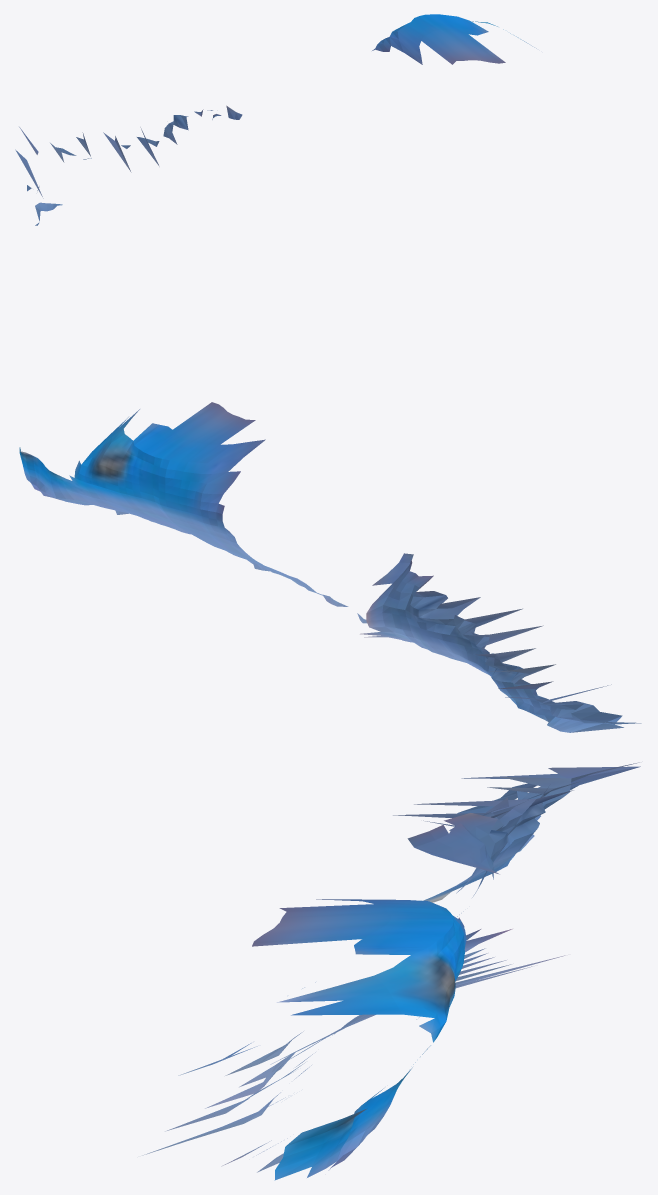
Rendered from observed-surface.glb.
3 renders of one model, top to bottom at view 1: azimuth 30°, elevation 25°; view 2: azimuth 150°, elevation 25°; view 3: azimuth 270°, elevation 25°, orthographic. The views are drawn at different scales.
Visible parts, largest first — view 1: geometry_0; view 2: geometry_0; view 3: geometry_0.
Boxes of the visible parts, bbox=[...] form: geometry_0: bbox=[15, 14, 536, 225]; geometry_0: bbox=[19, 402, 641, 732]; geometry_0: bbox=[142, 762, 640, 1180].
Size of the model in its own units: 0.6913 by 0.246 by 0.4289.
1 material, 1 textured.
